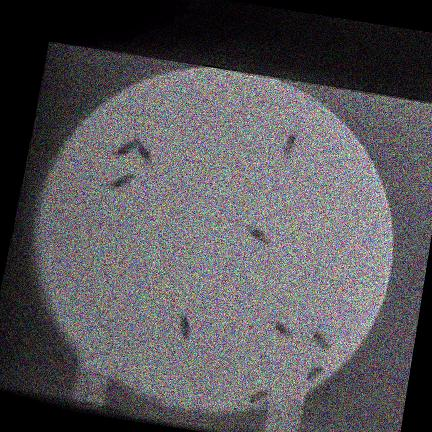fly: (109, 171, 134, 189), (248, 225, 269, 243), (136, 140, 152, 163), (114, 139, 137, 155), (272, 320, 293, 337), (282, 131, 297, 154), (313, 330, 331, 349), (178, 311, 189, 339), (307, 365, 323, 379), (247, 390, 267, 401)
